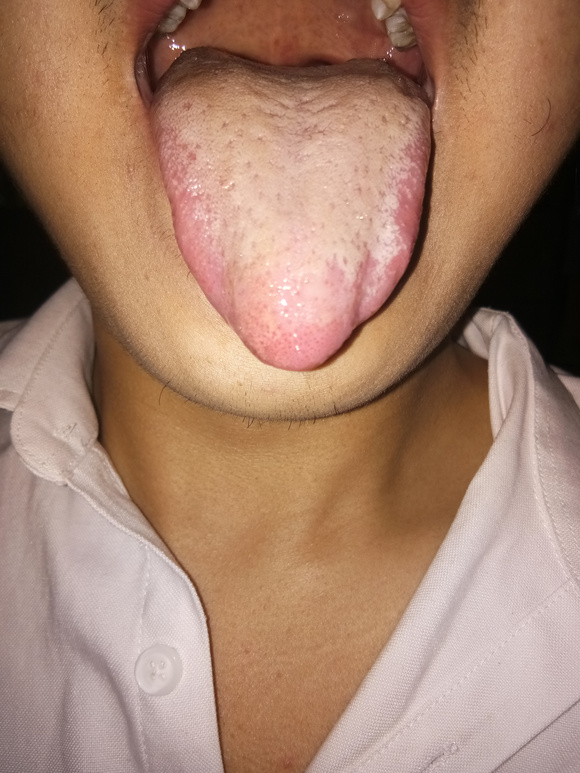huangtaishe: (155, 46, 429, 372)
